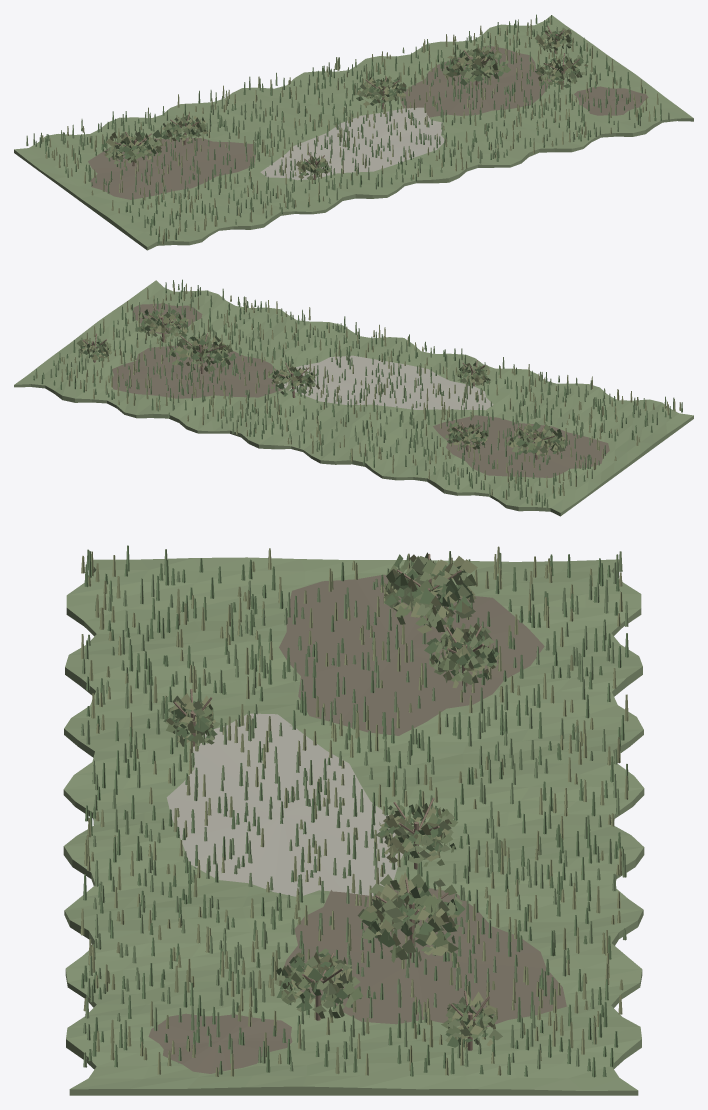
The model's file is r6b2b-rabata-ogrodowa.glb.
3 views of the same model, one above another, from view 1: azimuth 30°, elevation 25°; view 2: azimuth 150°, elevation 25°; view 3: azimuth 270°, elevation 25° (orthographic). The views are drawn at different scales.
Parts seen in each view (by area): view 1: Rabata ogrodowa 14 m R6b2b Darń ogrodowa, Rabata ogrodowa 14 m R6b2b Naturalna ciemna ziemia, Rabata ogrodowa 14 m R6b2b Wysokie trawy 1, Rabata ogrodowa 14 m R6b2b Wysokie trawy 0, Rabata ogrodowa 14 m R6b2b Wysokie trawy 2, Rabata ogrodowa 14 m R6b2b Jasny mulcz mineralny, Rabata ogrodowa 14 m R6b2b Ulistnienie ogrodowe 3, Rabata ogrodowa 14 m R6b2b Ulistnienie ogrodowe 2, Rabata ogrodowa 14 m R6b2b Ulistnienie ogrodowe 1, Rabata ogrodowa 14 m R6b2b Ulistnienie ogrodowe 0, Rabata ogrodowa 14 m R6b2b Kora drobnych krzewow; view 2: Rabata ogrodowa 14 m R6b2b Darń ogrodowa, Rabata ogrodowa 14 m R6b2b Naturalna ciemna ziemia, Rabata ogrodowa 14 m R6b2b Wysokie trawy 1, Rabata ogrodowa 14 m R6b2b Wysokie trawy 0, Rabata ogrodowa 14 m R6b2b Wysokie trawy 2, Rabata ogrodowa 14 m R6b2b Jasny mulcz mineralny, Rabata ogrodowa 14 m R6b2b Ulistnienie ogrodowe 0, Rabata ogrodowa 14 m R6b2b Ulistnienie ogrodowe 3, Rabata ogrodowa 14 m R6b2b Ulistnienie ogrodowe 2, Rabata ogrodowa 14 m R6b2b Ulistnienie ogrodowe 1, Rabata ogrodowa 14 m R6b2b Kora drobnych krzewow; view 3: Rabata ogrodowa 14 m R6b2b Darń ogrodowa, Rabata ogrodowa 14 m R6b2b Naturalna ciemna ziemia, Rabata ogrodowa 14 m R6b2b Wysokie trawy 1, Rabata ogrodowa 14 m R6b2b Wysokie trawy 0, Rabata ogrodowa 14 m R6b2b Wysokie trawy 2, Rabata ogrodowa 14 m R6b2b Jasny mulcz mineralny, Rabata ogrodowa 14 m R6b2b Ulistnienie ogrodowe 2, Rabata ogrodowa 14 m R6b2b Ulistnienie ogrodowe 3, Rabata ogrodowa 14 m R6b2b Ulistnienie ogrodowe 1, Rabata ogrodowa 14 m R6b2b Ulistnienie ogrodowe 0, Rabata ogrodowa 14 m R6b2b Kora drobnych krzewow.
Part boxes in pixels (x1,y1,x2,y2): Rabata ogrodowa 14 m R6b2b Darń ogrodowa: [14, 15, 693, 250]; Rabata ogrodowa 14 m R6b2b Naturalna ciemna ziemia: [88, 45, 648, 199]; Rabata ogrodowa 14 m R6b2b Wysokie trawy 1: [35, 14, 661, 243]; Rabata ogrodowa 14 m R6b2b Wysokie trawy 0: [26, 19, 669, 231]; Rabata ogrodowa 14 m R6b2b Wysokie trawy 2: [42, 18, 658, 243]; Rabata ogrodowa 14 m R6b2b Jasny mulcz mineralny: [260, 107, 444, 180]; Rabata ogrodowa 14 m R6b2b Ulistnienie ogrodowe 3: [104, 29, 587, 178]; Rabata ogrodowa 14 m R6b2b Ulistnienie ogrodowe 2: [106, 30, 586, 179]; Rabata ogrodowa 14 m R6b2b Ulistnienie ogrodowe 1: [104, 27, 581, 178]; Rabata ogrodowa 14 m R6b2b Ulistnienie ogrodowe 0: [110, 31, 587, 177]; Rabata ogrodowa 14 m R6b2b Kora drobnych krzewow: [115, 25, 579, 179]; Rabata ogrodowa 14 m R6b2b Darń ogrodowa: [14, 280, 693, 516]; Rabata ogrodowa 14 m R6b2b Naturalna ciemna ziemia: [112, 303, 609, 477]; Rabata ogrodowa 14 m R6b2b Wysokie trawy 1: [33, 279, 682, 505]; Rabata ogrodowa 14 m R6b2b Wysokie trawy 0: [50, 280, 657, 509]; Rabata ogrodowa 14 m R6b2b Wysokie trawy 2: [36, 283, 681, 505]; Rabata ogrodowa 14 m R6b2b Jasny mulcz mineralny: [278, 355, 493, 410]; Rabata ogrodowa 14 m R6b2b Ulistnienie ogrodowe 0: [81, 309, 562, 454]; Rabata ogrodowa 14 m R6b2b Ulistnienie ogrodowe 3: [80, 310, 565, 455]; Rabata ogrodowa 14 m R6b2b Ulistnienie ogrodowe 2: [77, 312, 565, 455]; Rabata ogrodowa 14 m R6b2b Ulistnienie ogrodowe 1: [76, 309, 564, 459]; Rabata ogrodowa 14 m R6b2b Kora drobnych krzewow: [82, 306, 555, 459]; Rabata ogrodowa 14 m R6b2b Darń ogrodowa: [63, 557, 644, 1095]; Rabata ogrodowa 14 m R6b2b Naturalna ciemna ziemia: [148, 574, 566, 1073]; Rabata ogrodowa 14 m R6b2b Wysokie trawy 1: [81, 545, 628, 1077]; Rabata ogrodowa 14 m R6b2b Wysokie trawy 0: [81, 549, 628, 1072]; Rabata ogrodowa 14 m R6b2b Wysokie trawy 2: [80, 546, 628, 1076]; Rabata ogrodowa 14 m R6b2b Jasny mulcz mineralny: [166, 713, 403, 896]; Rabata ogrodowa 14 m R6b2b Ulistnienie ogrodowe 2: [165, 556, 502, 1045]; Rabata ogrodowa 14 m R6b2b Ulistnienie ogrodowe 3: [166, 554, 498, 1046]; Rabata ogrodowa 14 m R6b2b Ulistnienie ogrodowe 1: [166, 552, 499, 1038]; Rabata ogrodowa 14 m R6b2b Ulistnienie ogrodowe 0: [163, 554, 499, 1047]; Rabata ogrodowa 14 m R6b2b Kora drobnych krzewow: [173, 554, 489, 1050].
Size of the model in its own units: 14 by 0.9908 by 6.49.
